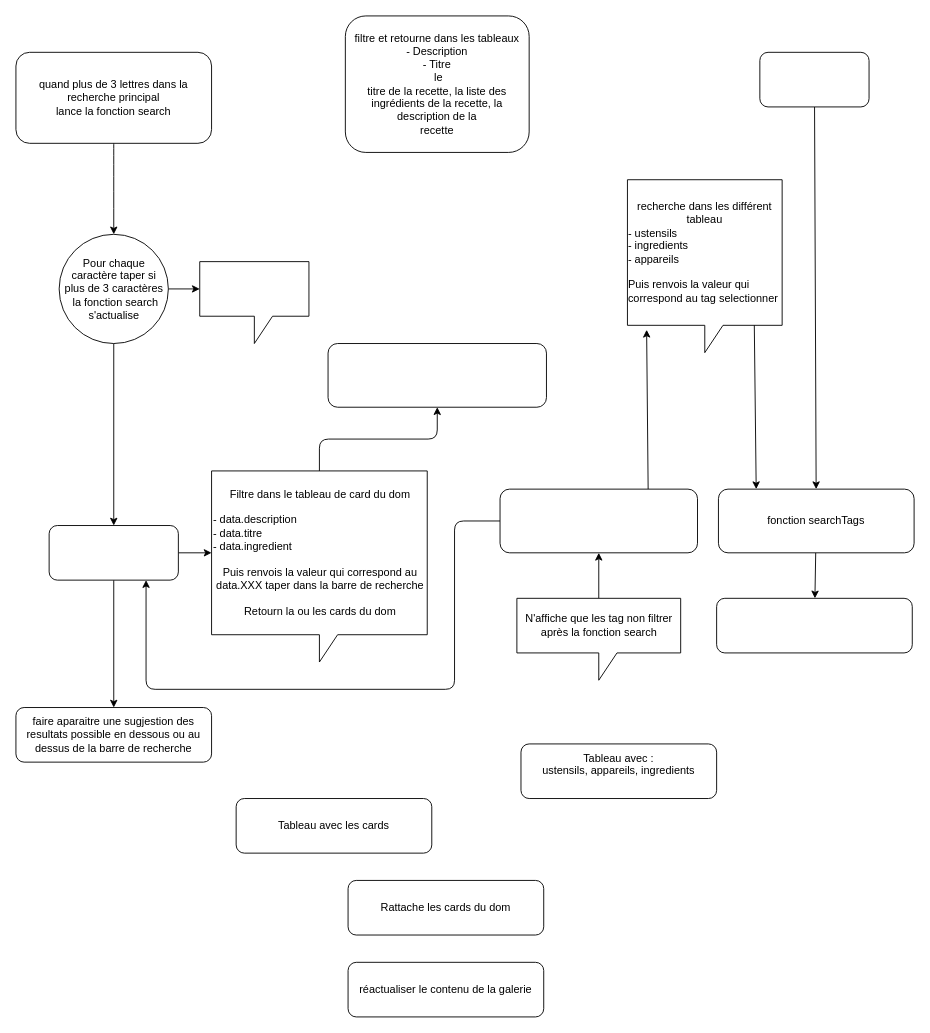
Image size: 930x1033. Some labels were removed from this diagram. Each missing label, with the box of its shape:
fonction search: (48, 525, 178, 580)
Fonction searchTags après search: (499, 488, 698, 553)
les tags selectionner apparaissent en desous de la barre de recherche: (716, 597, 912, 653)
set time out entre chaque nouveau carractère entrer par l'utilisateur: (199, 261, 309, 344)
si tag selectionner: (759, 51, 869, 107)
Supprime les cards du dom à chaque lancement de la fonction search: (327, 343, 546, 407)
